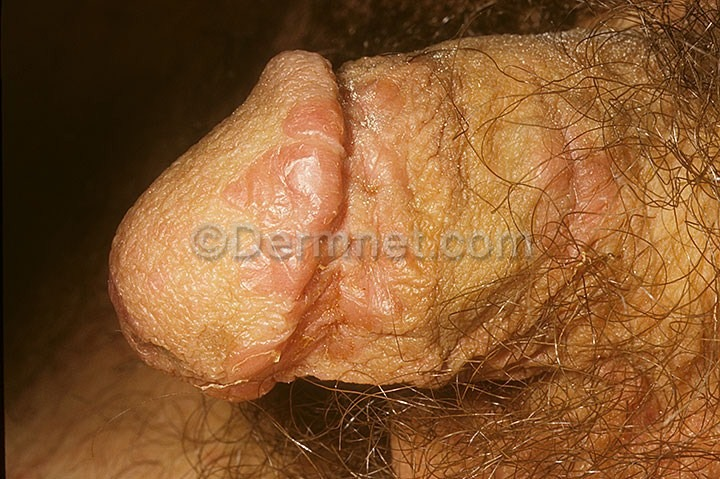Psoriasis: (236, 71, 417, 393)
